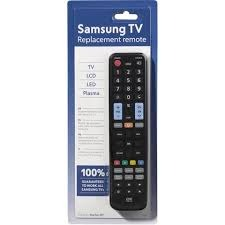remote control: (107, 48, 150, 210)
